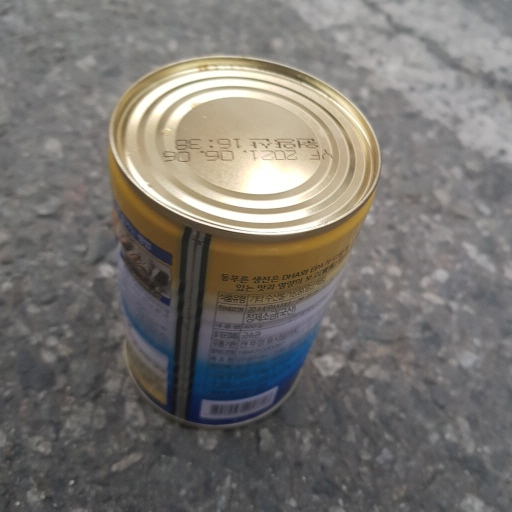Metal_1: (107, 56, 382, 430)
